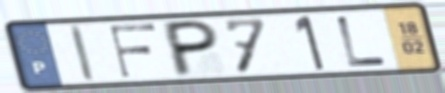1: (292, 13, 328, 72)
7: (222, 16, 269, 75)
F: (107, 21, 159, 80)
I: (66, 23, 98, 84)
L: (334, 14, 391, 69)
P: (163, 18, 221, 79)
